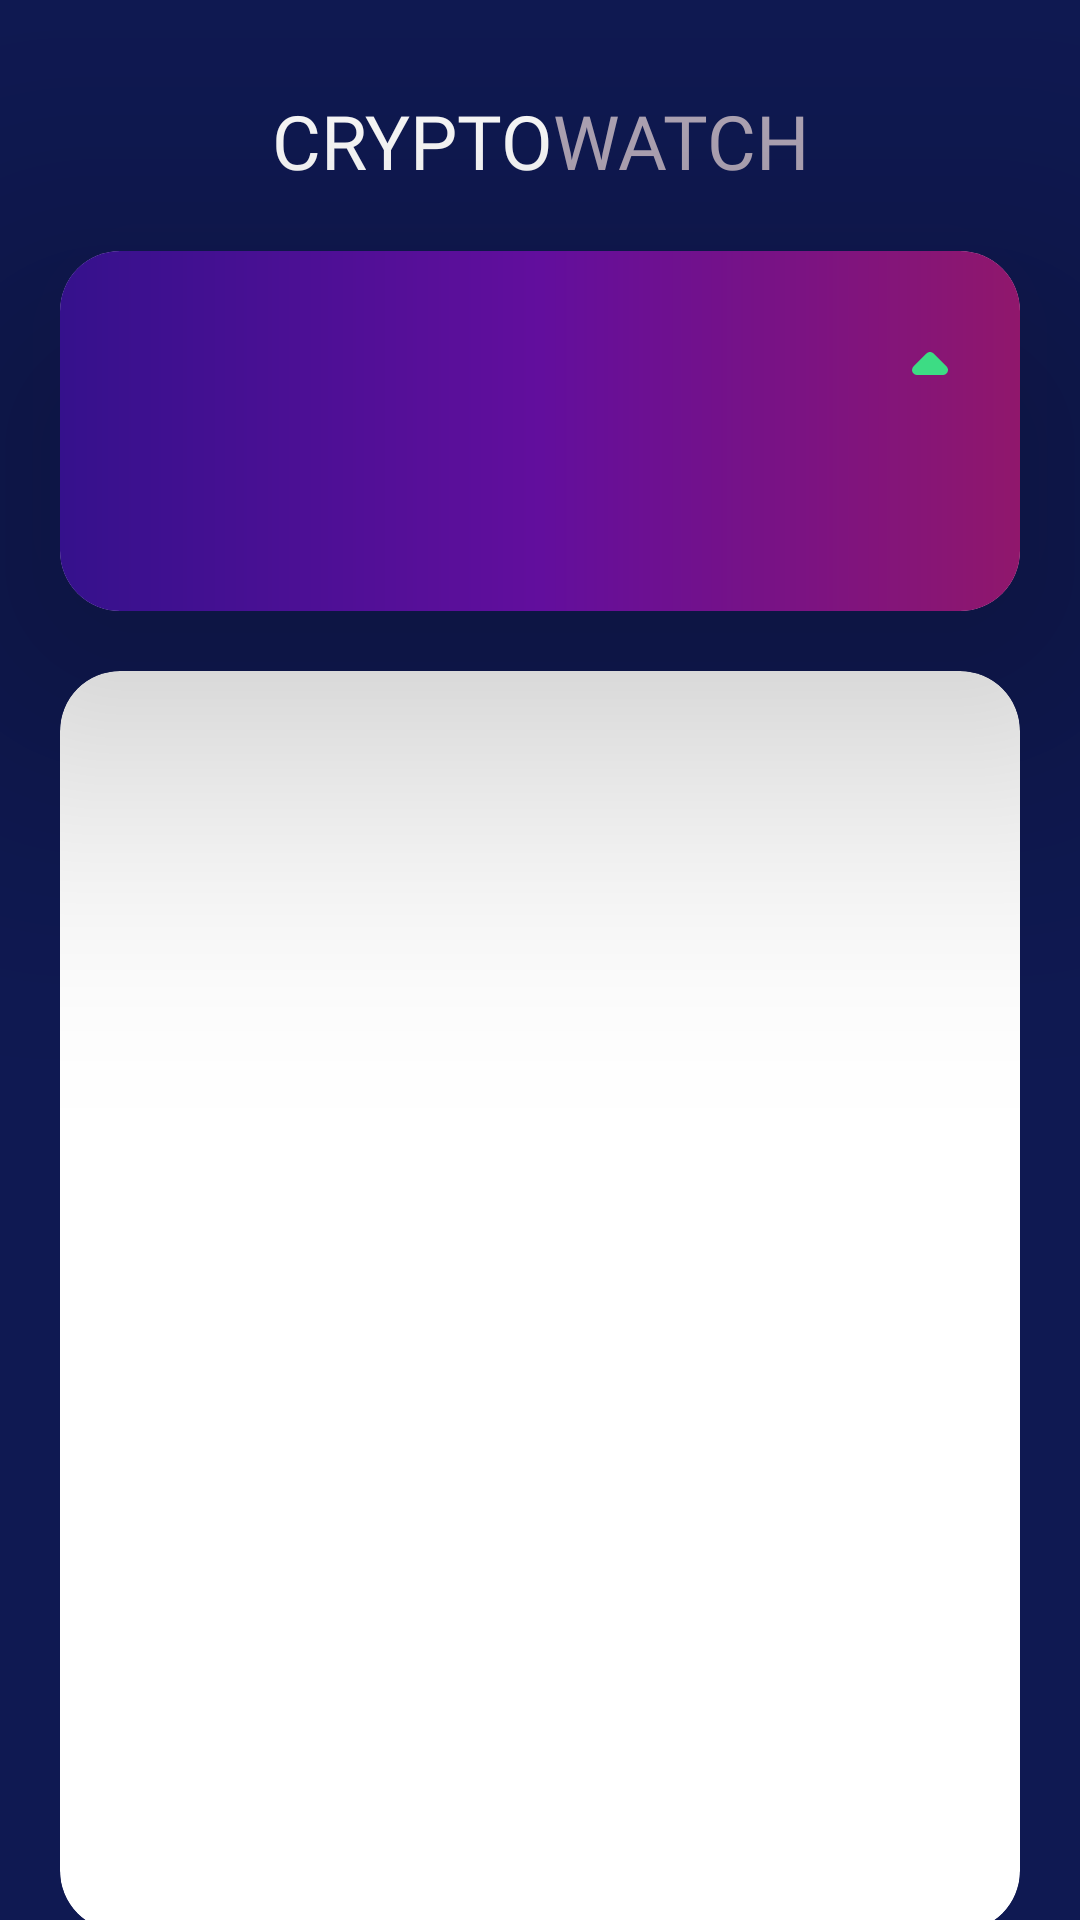

Named icons in this screenshot (1080 x 1920) and their bounding boxes, (x1, y1, x2, y2):
price up: (912, 352, 948, 375)
